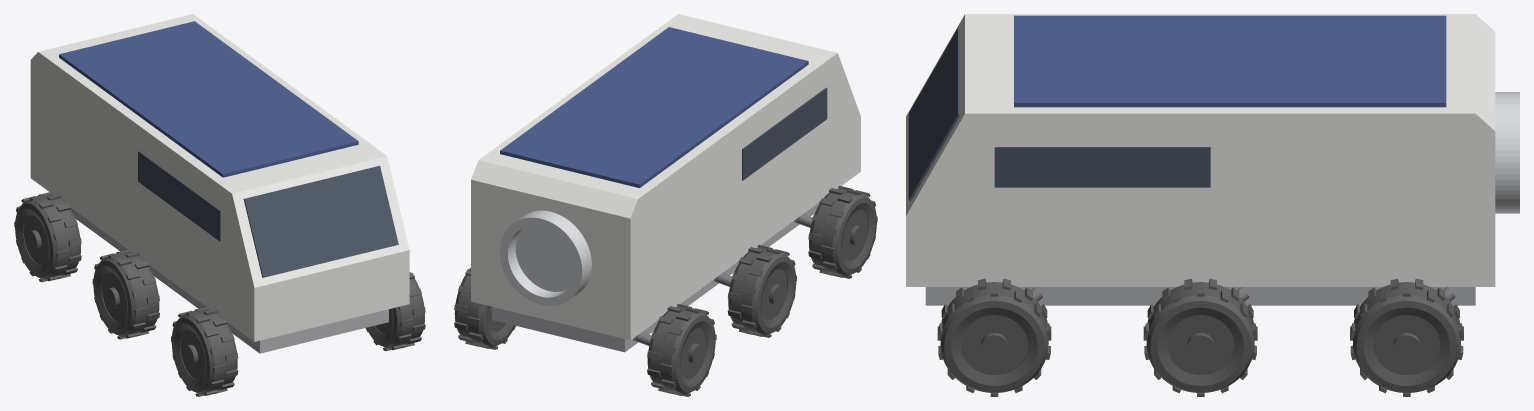
The model's file is rover03_pressurised_rover.glb.
The picture shows the model from 3 angles, left to right: view 1: azimuth 30°, elevation 25°; view 2: azimuth 150°, elevation 25°; view 3: azimuth 270°, elevation 25°; orthographic projection. The views are drawn at different scales.
Visible parts, largest first — view 1: cabin, roof_solar, windows, wheel_5, wheel_4, wheel_6, chassis, wheel_1; view 2: cabin, roof_solar, rear_hatch, wheel_6, wheel_5, wheel_4, windows, chassis, wheel_3, suspension_arms; view 3: cabin, roof_solar, windows, wheel_1, wheel_2, wheel_3, chassis, rear_hatch.
Boxes of the visible parts, box(x1,y1,x2,y2) form: cabin: box(30, 14, 409, 341); roof_solar: box(59, 21, 358, 177); windows: box(138, 151, 398, 277); wheel_5: box(92, 249, 159, 339); wheel_4: box(171, 306, 238, 396); wheel_6: box(14, 192, 81, 282); chassis: box(52, 194, 388, 353); wheel_1: box(365, 272, 425, 351); cabin: box(471, 14, 860, 340); roof_solar: box(500, 27, 808, 187); rear_hatch: box(500, 210, 591, 305); wheel_6: box(647, 304, 716, 396); wheel_5: box(727, 245, 796, 337); wheel_4: box(808, 186, 877, 278); windows: box(742, 87, 827, 180); chassis: box(492, 188, 838, 352); wheel_3: box(454, 268, 515, 349); suspension_arms: box(633, 214, 812, 345); cabin: box(906, 14, 1495, 286); roof_solar: box(1014, 15, 1446, 107); windows: box(908, 27, 1210, 201); wheel_1: box(937, 278, 1051, 396); wheel_2: box(1143, 278, 1257, 396); wheel_3: box(1350, 278, 1463, 396); chassis: box(925, 287, 1475, 305); rear_hatch: box(1495, 92, 1519, 213).
Bounding box in the file's own units: 3.39 × 3.03 × 6.25.
